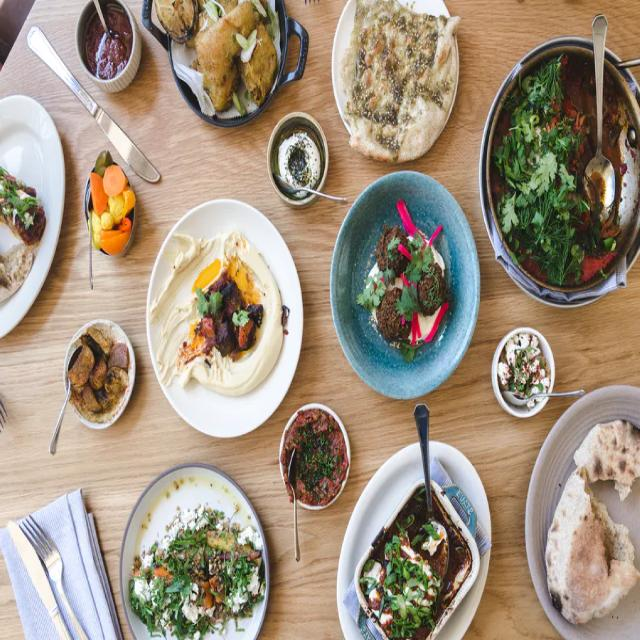canh: (494, 39, 640, 307), (123, 461, 240, 629)
do ngot: (520, 418, 640, 614), (169, 223, 271, 422), (360, 498, 473, 628), (359, 216, 448, 379), (280, 410, 346, 530), (59, 319, 128, 423), (490, 336, 553, 404), (276, 124, 325, 208)
do nuong: (346, 18, 467, 149), (171, 14, 298, 106)
rau thap cam: (72, 150, 141, 264)
